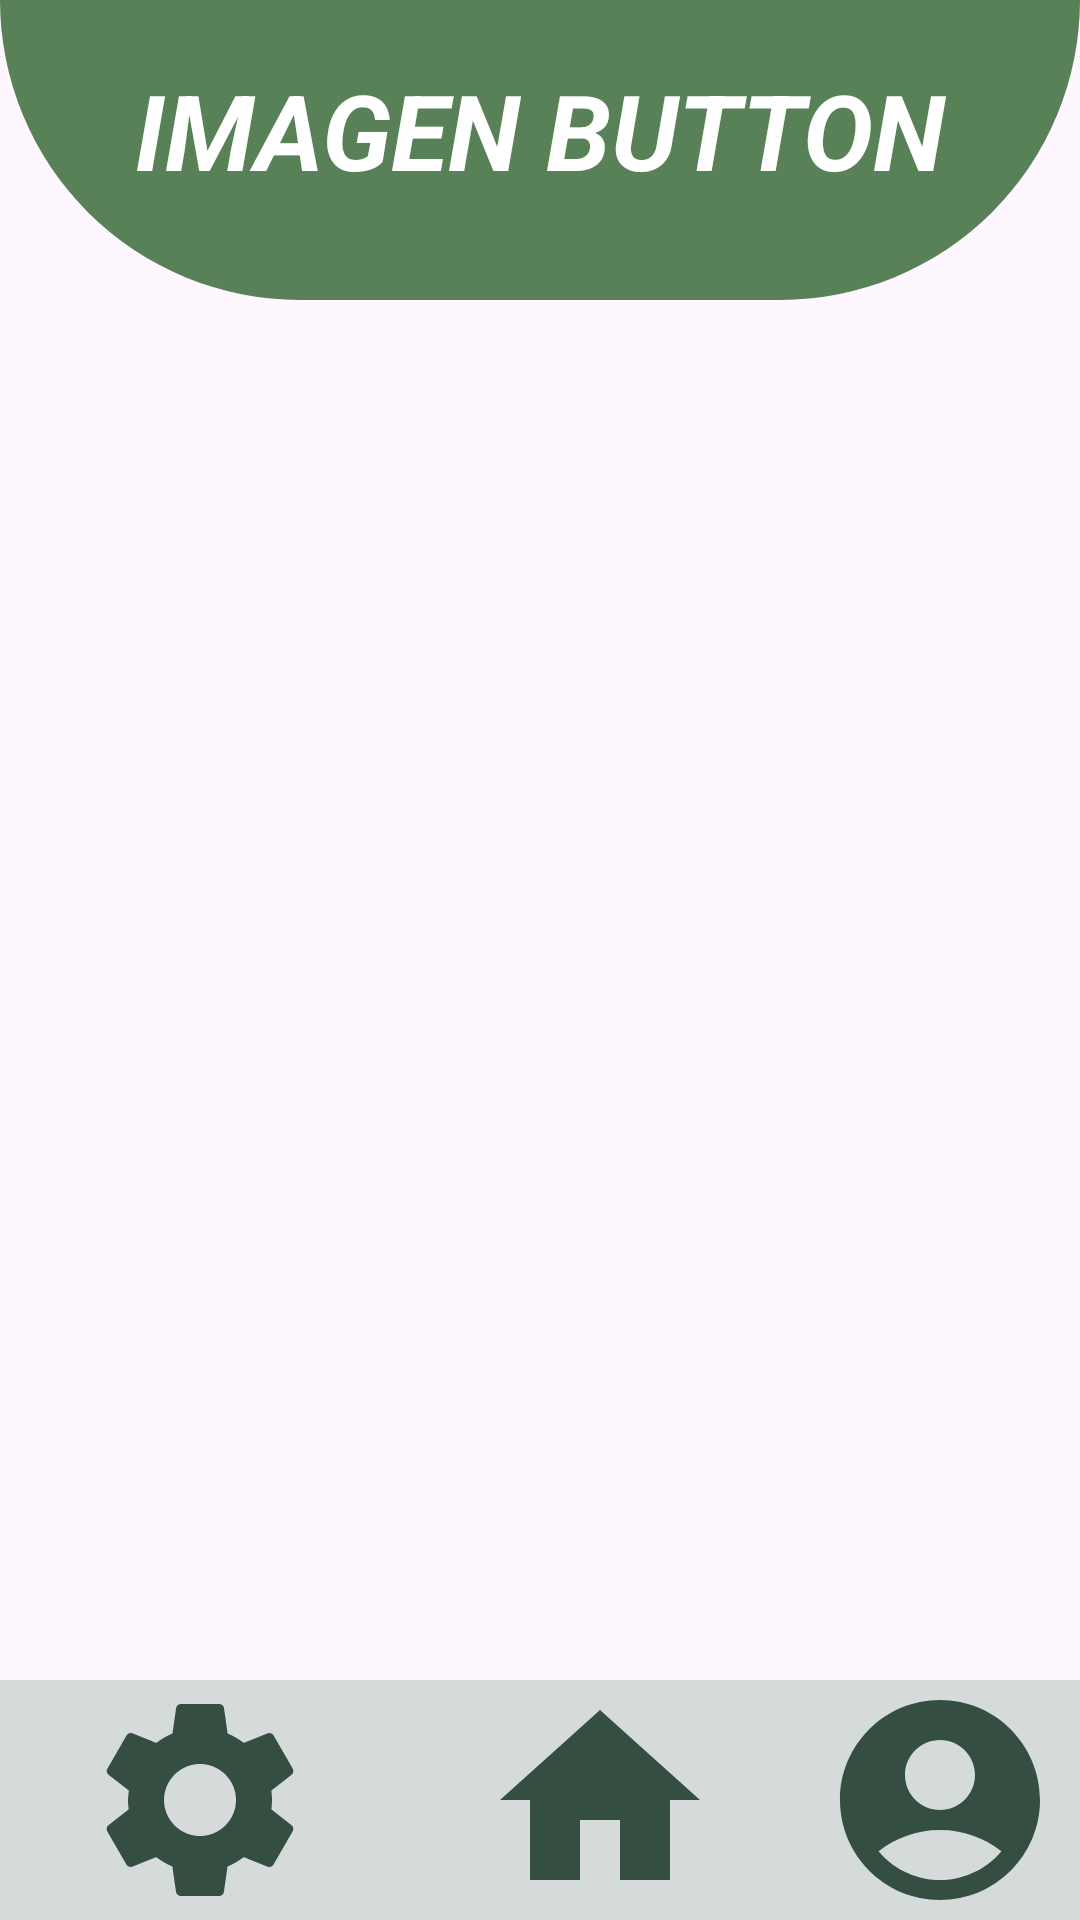

Point at icon controls on the screen. Image size 1080w x 1920h, points as (x=x, y=y).
account circle: (x=940, y=1800)
home: (x=600, y=1795)
settings: (x=200, y=1800)
